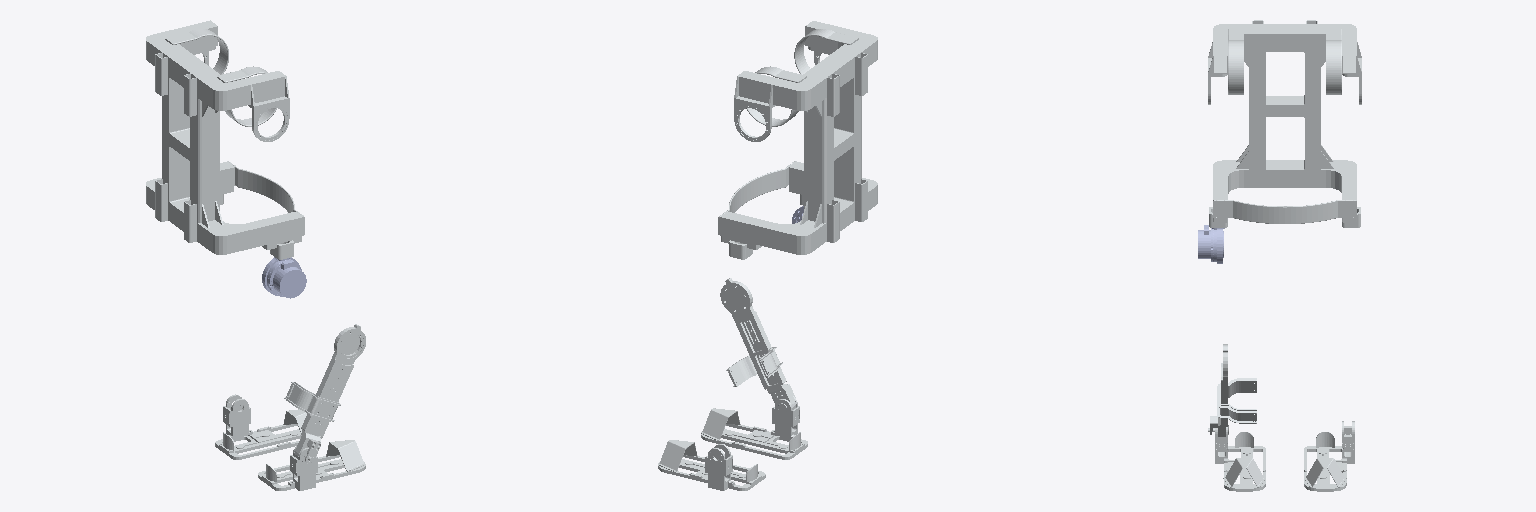
The robot description file, URDF, robot "lower_limb":
<?xml version="1.0" encoding="utf-8"?>
<!-- This URDF was automatically created by SolidWorks to URDF Exporter! Originally created by [author] ([email redacted]) 
     Commit Version: 1.5.1-0-g916b5db  Build Version: 1.5.7152.31018
     For more information, please see http://wiki.ros.org/sw_urdf_exporter -->
<robot
  name="lower_limb" xmlns:xacro="http://ros.org/wiki/xacro">
  <link
    name="Back_Base_Link">
    <inertial>
      <origin
        xyz="0.102999774541297 1.05565171604205E-08 -0.01817224156931"
        rpy="0 0 0" />
      <mass
        value="7.1666344893724" />
      <inertia
        ixx="0.287991764742564"
        ixy="4.03119244398634E-09"
        ixz="0.00975876307734881"
        iyy="0.218183102338654"
        iyz="-5.72291606644722E-09"
        izz="0.12372998211452" />
    </inertial>
    <visual>
      <origin
        xyz="0 0 0"
        rpy="0 0 0" />
      <geometry>
        <mesh
          filename="package://exoskeleton_description/meshes/Back_Base_Link.STL" scale="1 1 1" />
      </geometry>
      <material
        name="">
        <color
          rgba="0.898039215686275 0.917647058823529 0.929411764705882 1" />
      </material>
    </visual>
    <collision>
      <origin
        xyz="0 0 0"
        rpy="0 0 0" />
      <geometry>
        <mesh
          filename="package://exoskeleton_description/meshes/Back_Base_Link.STL" scale="1 1 1"/>
      </geometry>
    </collision>
  </link>
  <link
    name="Left_Hip_Link">
    <inertial>
      <origin
        xyz="-1.3735040874728E-05 0.0179559979496652 -0.0878442552563184"
        rpy="0 0 0" />
      <mass
        value="0.62727954916709" />
      <inertia
        ixx="0.000803551783618585"
        ixy="-5.17981149005877E-08"
        ixz="2.29207102245784E-07"
        iyy="0.00122780019469989"
        iyz="-2.98500736137851E-05"
        izz="0.000525693313567132" />
    </inertial>
    <visual>
      <origin
        xyz="0 0 0"
        rpy="0 0 0" />
      <geometry>
        <mesh
          filename="package://exoskeleton_description/meshes/Left_Hip_Link.z" />
      </geometry>
      <material
        name="">
        <color
          rgba="0.792156862745098 0.819607843137255 0.933333333333333 1" />
      </material>
    </visual>
    <collision>
      <origin
        xyz="0 0 0"
        rpy="0 0 0" />
      <geometry>
        <mesh
          filename="package://exoskeleton_description/meshes/Left_Hip_Link.z" />
      </geometry>
    </collision>
  </link>
  <joint
    name="Left_Hip_Joint"
    type="revolute">
    <origin
      xyz="0.2243 0.208 -0.283"
      rpy="0 0 0" />
    <parent
      link="Back_Base_Link" />
    <child
      link="Left_Hip_Link" />
    <axis
      xyz="0 0 -1" />
    <limit
      lower="-3.0543261"
      upper="3.0543261"
      effort="100"
      velocity="100" />
  </joint>
  <link
    name="Left_Thigh_Link">
    <inertial>
      <origin
        xyz="0.140127137492953 0.164862799184004 -0.00686232636978185"
        rpy="0 0 0" />
      <mass
        value="1.99015186746122" />
      <inertia
        ixx="0.00826856226696965"
        ixy="-0.00414176527978269"
        ixz="-0.000304599567683225"
        iyy="0.00690797410500549"
        iyz="-0.0003572757112064"
        izz="0.0133862450193977" />
    </inertial>
    <visual>
      <origin
        xyz="0 0 0"
        rpy="0 0 0" />
      <geometry>
        <mesh
          filename="package://exoskeleton_description/meshes/Left_Thigh_Link.STL" />
      </geometry>
      <material
        name="">
        <color
          rgba="0.898039215686275 0.917647058823529 0.929411764705882 1" />
      </material>
    </visual>
    <collision>
      <origin
        xyz="0 0 0"
        rpy="0 0 0" />
      <geometry>
        <mesh
          filename="package://exoskeleton_description/meshes/Left_Thigh_Link.STL" />
      </geometry>
    </collision>
  </link>
  <joint
    name="Left_Thigh_Joint"
    type="revolute">
    <origin
      xyz="0 -0.012 -0.097"
      rpy="-1.5708 0 0" />
    <parent
      link="Left_Hip_Link" />
    <child
      link="Left_Thigh_Link" />
    <axis
      xyz="0 0 1" />
    <limit
      lower="-3.0543261"
      upper="3.0543261"
      effort="100"
      velocity="100" />
  </joint>
  <link
    name="Left_Calf_Link">
    <inertial>
      <origin
        xyz="-0.0891932258279573 0.1736863105515 -0.0133146082606969"
        rpy="0 0 0" />
      <mass
        value="1.67275410091362" />
      <inertia
        ixx="0.00883526656815791"
        ixy="0.00363950973911315"
        ixz="0.000173170626109102"
        iyy="0.00361703472487365"
        iyz="-0.000337215822027566"
        izz="0.0114695151758111" />
    </inertial>
    <visual>
      <origin
        xyz="0 0 0"
        rpy="0 0 0" />
      <geometry>
        <mesh
          filename="package://exoskeleton_description/meshes/Left_Calf_Link.STL" />
      </geometry>
      <material
        name="">
        <color
          rgba="0.898039215686275 0.917647058823529 0.929411764705882 1" />
      </material>
    </visual>
    <collision>
      <origin
        xyz="0 0 0"
        rpy="0 0 0" />
      <geometry>
        <mesh
          filename="package://exoskeleton_description/meshes/Left_Calf_Link.STL" />
      </geometry>
    </collision>
  </link>
  <joint
    name="Left_Calf_Joint"
    type="revolute">
    <origin
      xyz="0.23966 0.28189 0"
      rpy="0 0 0" />
    <parent
      link="Left_Thigh_Link" />
    <child
      link="Left_Calf_Link" />
    <axis
      xyz="0 0 1" />
    <limit
      lower="-3.0543261"
      upper="3.0543261"
      effort="100"
      velocity="100" />
  </joint>
  <link
    name="Left_Ankle_Link">
    <inertial>
      <origin
        xyz="0.0464300413622986 0.0767918043386187 -0.0192031324458123"
        rpy="0 0 0" />
      <mass
        value="1.19036450922831" />
      <inertia
        ixx="0.00153091818368035"
        ixy="-6.61160505400838E-06"
        ixz="6.995899556434E-05"
        iyy="0.0064801204508979"
        iyz="-7.19796708189506E-06"
        izz="0.00598779799807743" />
    </inertial>
    <visual>
      <origin
        xyz="0 0 0"
        rpy="0 0 0" />
      <geometry>
        <mesh
          filename="package://exoskeleton_description/meshes/Left_Ankle_Link.STL" />
      </geometry>
      <material
        name="">
        <color
          rgba="0.898039215686275 0.917647058823529 0.929411764705882 1" />
      </material>
    </visual>
    <collision>
      <origin
        xyz="0 0 0"
        rpy="0 0 0" />
      <geometry>
        <mesh
          filename="package://exoskeleton_description/meshes/Left_Ankle_Link.STL" />
      </geometry>
    </collision>
  </link>
  <joint
    name="Left_Ankle_Joint"
    type="revolute">
    <origin
      xyz="-0.15989 0.31135 -0.025"
      rpy="0 0 0" />
    <parent
      link="Left_Calf_Link" />
    <child
      link="Left_Ankle_Link" />
    <axis
      xyz="0 0 1" />
    <limit
      lower="-3.0543261"
      upper="3.0543261"
      effort="100"
      velocity="100" />
  </joint>
  <link
    name="Right_Hip_Link">
    <inertial>
      <origin
        xyz="-1.46143295239251E-05 -0.0179780944726418 -0.0879462944917951"
        rpy="0 0 0" />
      <mass
        value="0.62649762055318" />
      <inertia
        ixx="0.000799976542001865"
        ixy="7.12950125025003E-08"
        ixz="2.30564615550973E-07"
        iyy="0.00122426246525867"
        iyz="2.94864770722133E-05"
        izz="0.000525653399653843" />
    </inertial>
    <visual>
      <origin
        xyz="0 0 0"
        rpy="0 0 0" />
      <geometry>
        <mesh
          filename="package://exoskeleton_description/meshes/Right_Hip_Link.STL" />
      </geometry>
      <material
        name="">
        <color
          rgba="0.792156862745098 0.819607843137255 0.933333333333333 1" />
      </material>
    </visual>
    <collision>
      <origin
        xyz="0 0 0"
        rpy="0 0 0" />
      <geometry>
        <mesh
          filename="package://exoskeleton_description/meshes/Right_Hip_Link.STL" />
      </geometry>
    </collision>
  </link>
  <joint
    name="Right_Hip_Joint"
    type="revolute">
    <origin
      xyz="0.2243 -0.208 -0.283"
      rpy="0 0 0" />
    <parent
      link="Back_Base_Link" />
    <child
      link="Right_Hip_Link" />
    <axis
      xyz="0 0 1" />
    <limit
      lower="-3.0543261"
      upper="3.0543261"
      effort="100"
      velocity="100" />
  </joint>
  <link
    name="Right_Thigh_Link">
    <inertial>
      <origin
        xyz="0.140021583192793 0.164739113884301 0.00687858578546396"
        rpy="0 0 0" />
      <mass
        value="1.98804772687662" />
      <inertia
        ixx="0.00824949609755381"
        ixy="-0.004128598728523"
        ixz="0.000302371461998384"
        iyy="0.00689306428252977"
        iyz="0.000354637810506685"
        izz="0.0133531919068961" />
    </inertial>
    <visual>
      <origin
        xyz="0 0 0"
        rpy="0 0 0" />
      <geometry>
        <mesh
          filename="package://exoskeleton_description/meshes/Right_Thigh_Link.STL" />
      </geometry>
      <material
        name="">
        <color
          rgba="0.898039215686275 0.917647058823529 0.929411764705882 1" />
      </material>
    </visual>
    <collision>
      <origin
        xyz="0 0 0"
        rpy="0 0 0" />
      <geometry>
        <mesh
          filename="package://exoskeleton_description/meshes/Right_Thigh_Link.STL" />
      </geometry>
    </collision>
  </link>
  <joint
    name="Right_Thigh_Joint"
    type="revolute">
    <origin
      xyz="0 0.012 -0.097"
      rpy="-1.5708 0 0" />
    <parent
      link="Right_Hip_Link" />
    <child
      link="Right_Thigh_Link" />
    <axis
      xyz="0 0 1" />
    <limit
      lower="-3.0543261"
      upper="3.0543261"
      effort="100"
      velocity="100" />
  </joint>
  <link
    name="Right_Calf_Link">
    <inertial>
      <origin
        xyz="-0.0891932258618637 0.173686310533376 0.013314608260754"
        rpy="0 0 0" />
      <mass
        value="1.67275410090321" />
      <inertia
        ixx="0.00883526656624898"
        ixy="0.00363950974045949"
        ixz="-0.000173170625517377"
        iyy="0.00361703472671801"
        iyz="0.000337215822330695"
        izz="0.0114695151757452" />
    </inertial>
    <visual>
      <origin
        xyz="0 0 0"
        rpy="0 0 0" />
      <geometry>
        <mesh
          filename="package://exoskeleton_description/meshes/Right_Calf_Link.STL" />
      </geometry>
      <material
        name="">
        <color
          rgba="0.898039215686275 0.917647058823529 0.929411764705882 1" />
      </material>
    </visual>
    <collision>
      <origin
        xyz="0 0 0"
        rpy="0 0 0" />
      <geometry>
        <mesh
          filename="package://exoskeleton_description/meshes/Right_Calf_Link.STL" />
      </geometry>
    </collision>
  </link>
  <joint
    name="Right_Calf_Joint"
    type="revolute">
    <origin
      xyz="0.23966 0.28189 0"
      rpy="0 0 0" />
    <parent
      link="Right_Thigh_Link" />
    <child
      link="Right_Calf_Link" />
    <axis
      xyz="0 0 1" />
    <limit
      lower="-3.0543261"
      upper="3.0543261"
      effort="100"
      velocity="100" />
  </joint>
  <link
    name="Right_Ankle_Link">
    <inertial>
      <origin
        xyz="0.0464300413623036 0.0767918043386194 0.0192030995150147"
        rpy="0 0 0" />
      <mass
        value="1.19036450922831" />
      <inertia
        ixx="0.00153091818368036"
        ixy="-6.61160505400814E-06"
        ixz="-6.99580154469131E-05"
        iyy="0.00648012045089792"
        iyz="7.19799618925579E-06"
        izz="0.00598779799807745" />
    </inertial>
    <visual>
      <origin
        xyz="0 0 0"
        rpy="0 0 0" />
      <geometry>
        <mesh
          filename="package://exoskeleton_description/meshes/Right_Ankle_Link.STL" />
      </geometry>
      <material
        name="">
        <color
          rgba="0.898039215686275 0.917647058823529 0.929411764705882 1" />
      </material>
    </visual>
    <collision>
      <origin
        xyz="0 0 0"
        rpy="0 0 0" />
      <geometry>
        <mesh
          filename="package://exoskeleton_description/meshes/Right_Ankle_Link.STL" />
      </geometry>
    </collision>
  </link>
  <joint
    name="Right_Ankle_Joint"
    type="revolute">
    <origin
      xyz="-0.15989 0.31135 0.025"
      rpy="0 0 0" />
    <parent
      link="Right_Calf_Link" />
    <child
      link="Right_Ankle_Link" />
    <axis
      xyz="0 0 1" />
    <limit
      lower="-3.0543261"
      upper="3.0543261"
      effort="100"
      velocity="100" />
  </joint>

  <!-- ROS base_link to UR 'Base' Coordinates transform -->
  <link  name = "base"/>
  <joint name = "base_link-base_fixed_joint" type="fixed">
    <!-- NOTE: this rotation is only needed as long as base_link itself is
               not corrected wrt the real robot (ie: rotated over 180
               degrees)
    -->
    <origin xyz="0 0 -1.1" rpy="0 0 0"/>
    <parent link="Back_Base_Link"/>
    <child link="base"/>
  </joint>

  <transmission name="Left_Hip_trans">
    <type>transmission_interface/SimpleTransmission</type>
    <joint name="Left_Hip_Joint">
      <hardwareInterface>PositionJointInterface</hardwareInterface>
    </joint>
    <actuator name="Left_Hip_motor">
      <mechanicalReduction>1</mechanicalReduction>
    </actuator>
  </transmission>

  <transmission name="Left_Thigh_trans">
    <type>transmission_interface/SimpleTransmission</type>
    <joint name="Left_Thigh_Joint">
      <hardwareInterface>PositionJointInterface</hardwareInterface>
    </joint>
    <actuator name="Left_Thigh_motor">
      <mechanicalReduction>1</mechanicalReduction>
    </actuator>
  </transmission>
  
  <transmission name="Left_Calf_trans">
    <type>transmission_interface/SimpleTransmission</type>
    <joint name="Left_Calf_Joint">
      <hardwareInterface>PositionJointInterface</hardwareInterface>
    </joint>
    <actuator name="Left_Calf_motor">
      <mechanicalReduction>1</mechanicalReduction>
    </actuator>
  </transmission>

  <transmission name="Left_Ankle_trans">
    <type>transmission_interface/SimpleTransmission</type>
    <joint name="Left_Ankle_Joint">
      <hardwareInterface>PositionJointInterface</hardwareInterface>
    </joint>
    <actuator name="Left_Ankle_motor">
      <mechanicalReduction>1</mechanicalReduction>
    </actuator>
  </transmission>

  <transmission name="Right_Hip_trans">
    <type>transmission_interface/SimpleTransmission</type>
    <joint name="Right_Hip_Joint">
      <hardwareInterface>PositionJointInterface</hardwareInterface>
    </joint>
    <actuator name="Right_Hip_motor">
      <mechanicalReduction>1</mechanicalReduction>
    </actuator>
  </transmission>

  <transmission name="Right_Thigh_trans">
    <type>transmission_interface/SimpleTransmission</type>
    <joint name="Right_Thigh_Joint">
      <hardwareInterface>PositionJointInterface</hardwareInterface>
    </joint>
    <actuator name="Right_Thigh_motor">
      <mechanicalReduction>1</mechanicalReduction>
    </actuator>
  </transmission>
  
  <transmission name="Right_Calf_trans">
    <type>transmission_interface/SimpleTransmission</type>
    <joint name="Right_Calf_Joint">
      <hardwareInterface>PositionJointInterface</hardwareInterface>
    </joint>
    <actuator name="Right_Calf_motor">
      <mechanicalReduction>1</mechanicalReduction>
    </actuator>
  </transmission>

  <transmission name="Right_Ankle_trans">
    <type>transmission_interface/SimpleTransmission</type>
    <joint name="Right_Ankle_Joint">
      <hardwareInterface>PositionJointInterface</hardwareInterface>
    </joint>
    <actuator name="Right_Ankle_motor">
      <mechanicalReduction>1</mechanicalReduction>
    </actuator>
  </transmission>

  <gazebo>
    <plugin name="gazebo_ros_control" filename="libgazebo_ros_control.so">
      <robotNamespace>/lower_limb</robotNamespace>
      <robotSimType>gazebo_ros_control/DefaultRobotHWSim</robotSimType>
      <legacyModeNS>true</legacyModeNS>
    </plugin>
  </gazebo>

</robot>

--- What the picture shows (computed from the rendered views, not written in the file) ---
Views: 3 orthographic renders of the robot side by side, from view 1: azimuth 30°, elevation 25°; view 2: azimuth 150°, elevation 25°; view 3: azimuth 270°, elevation 25°.
Robot: lower_limb — 10 links, 9 joints (8 revolute, 1 fixed); root link Back_Base_Link; default pose: every joint at zero.
Links seen in each view (by area): view 1: Back_Base_Link, Right_Calf_Link, Left_Ankle_Link, Right_Ankle_Link, Right_Hip_Link; view 2: Back_Base_Link, Right_Calf_Link, Right_Ankle_Link, Left_Ankle_Link; view 3: Back_Base_Link, Left_Ankle_Link, Right_Ankle_Link, Right_Calf_Link, Right_Hip_Link.
Link boxes in pixels (box(x1,y1,x2,y2)): Back_Base_Link: box(146, 20, 304, 259); Right_Calf_Link: box(284, 324, 365, 463); Left_Ankle_Link: box(215, 394, 322, 459); Right_Ankle_Link: box(258, 440, 365, 490); Right_Hip_Link: box(262, 257, 306, 298); Back_Base_Link: box(718, 21, 877, 259); Right_Calf_Link: box(720, 278, 795, 412); Right_Ankle_Link: box(701, 396, 807, 459); Left_Ankle_Link: box(658, 440, 765, 490); Back_Base_Link: box(1208, 20, 1361, 227); Left_Ankle_Link: box(1304, 421, 1354, 491); Right_Ankle_Link: box(1215, 427, 1265, 491); Right_Calf_Link: box(1208, 344, 1256, 436); Right_Hip_Link: box(1198, 225, 1224, 263).
Size in the robot's own frame: 0.5541 by 0.5049 by 1.35 metres.
Meshes: 9 distinct files referenced, 5 mesh visuals loaded (5 binary STL); not drawn: 4 (reference not matched to a file when rendering).
